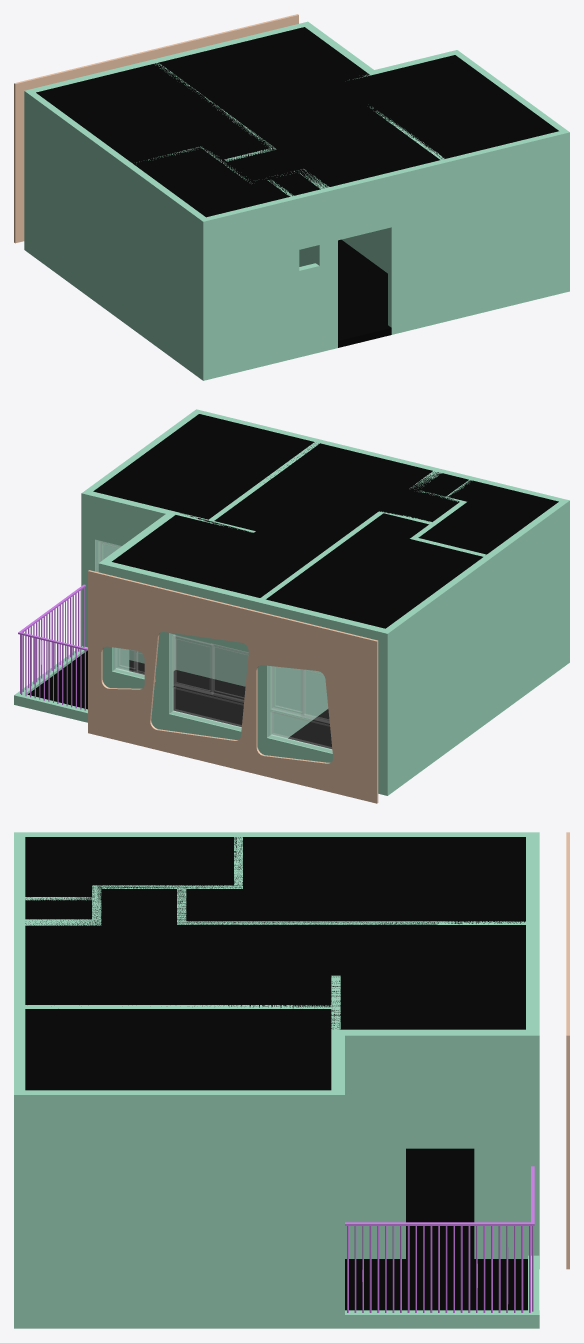
Rendered from twoBR-beenest.gltf.
3 renders of one model, top to bottom at view 1: azimuth 30°, elevation 25°; view 2: azimuth 150°, elevation 25°; view 3: azimuth 270°, elevation 25°, orthographic. The views are drawn at different scales.
Bounding box in the file's own units: 8.2 × 3.4 × 7.33.
